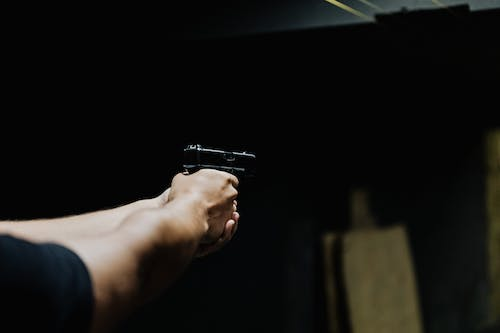gun: (180, 140, 256, 181)
